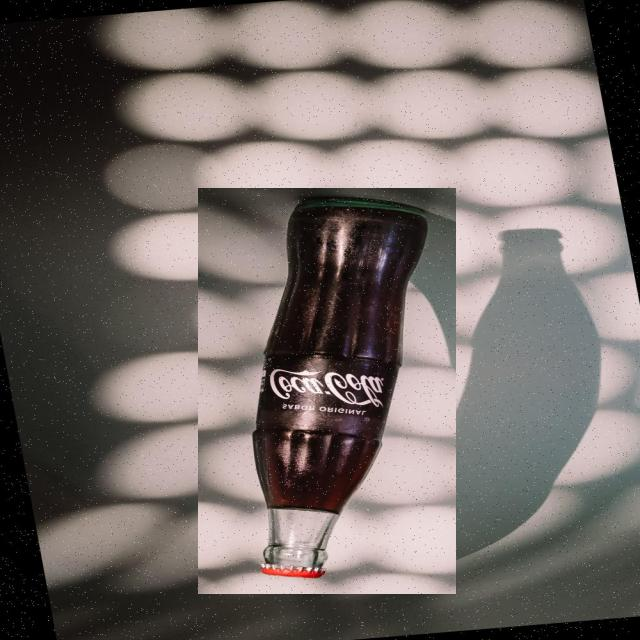coca-cola: (198, 188, 456, 594)
